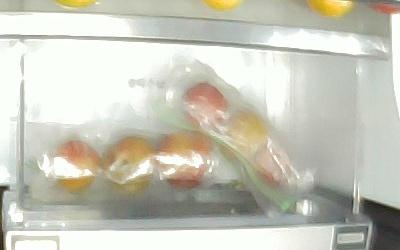prune_vinyl: (153, 126, 213, 190), (100, 133, 158, 193), (217, 108, 271, 161), (51, 138, 100, 191), (177, 80, 230, 128), (250, 142, 295, 189)
